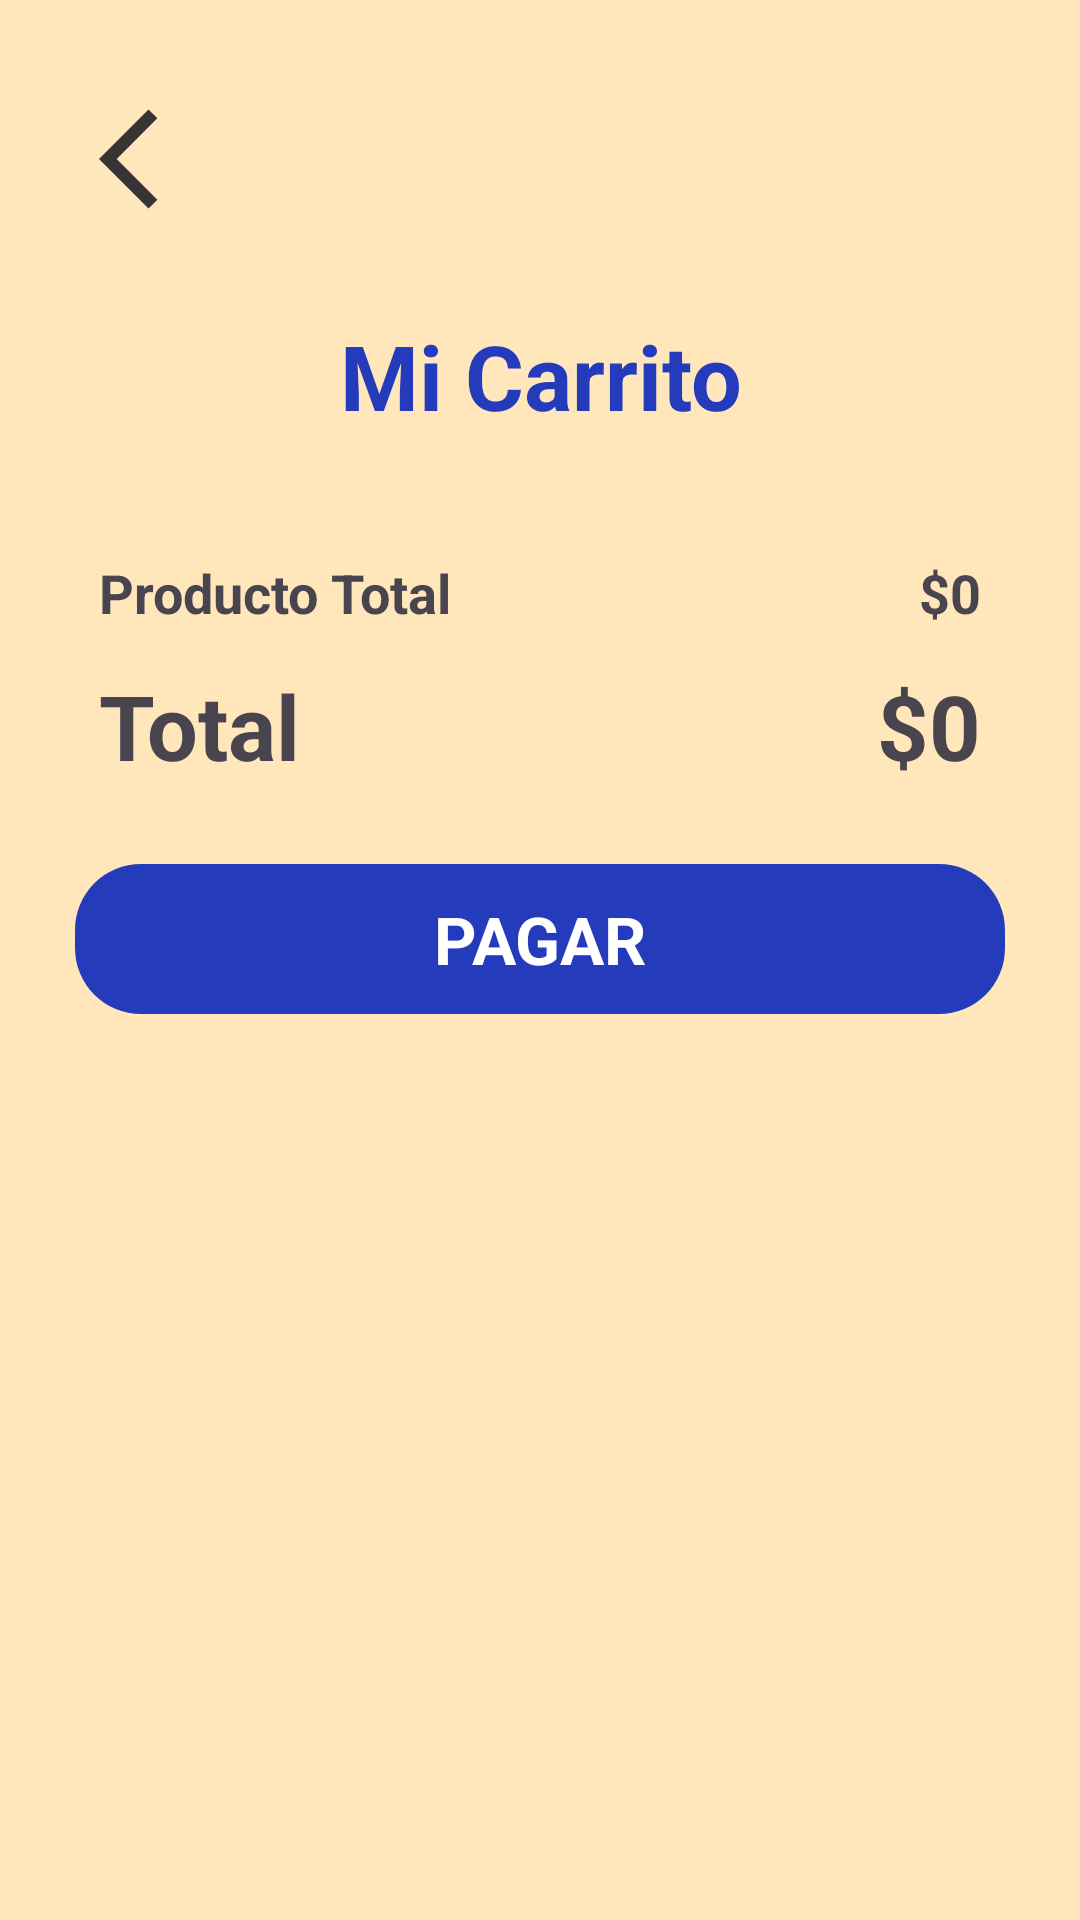

Icon click points for this 1080w x 1920h phone screenshot, format (x,y):
arrow back: (128,159)
